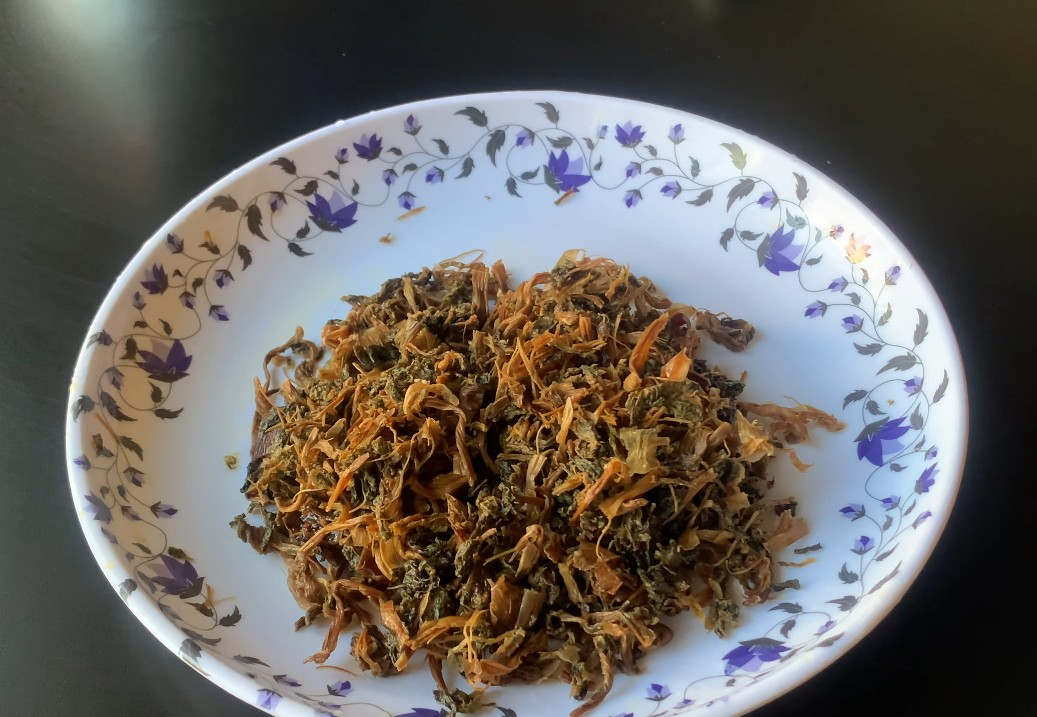gundruk: (282, 278, 752, 657)
